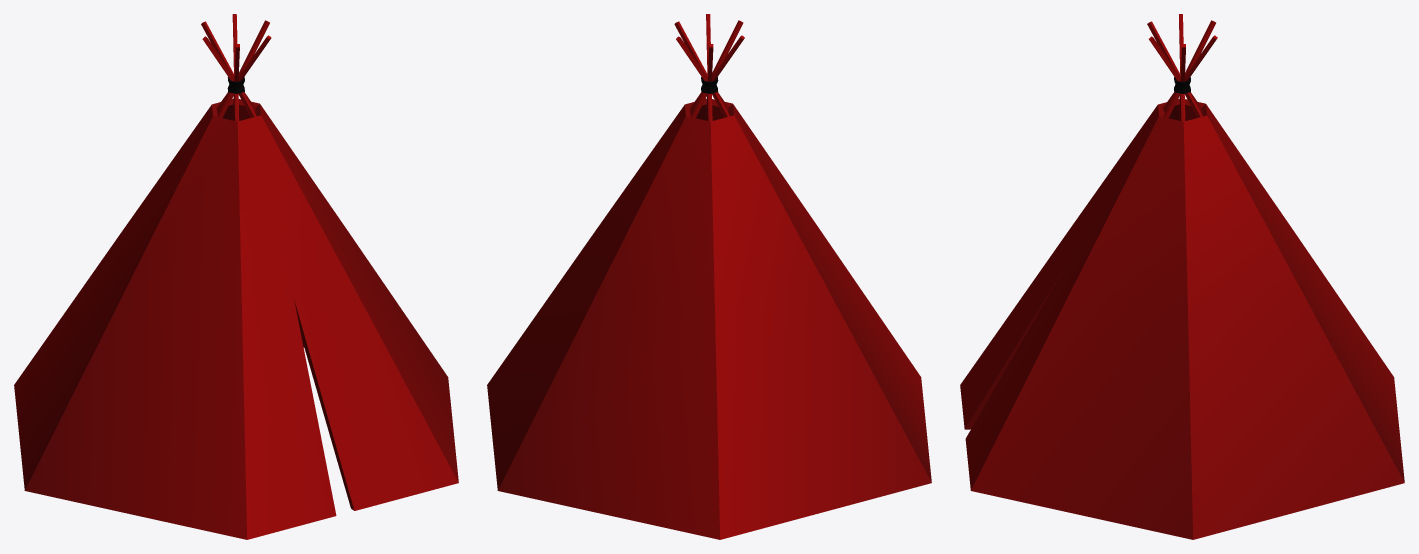
Rendered from buildings-tents-tipi_v1.fbx.
The picture shows the model from 3 angles, left to right: view 1: azimuth 30°, elevation 25°; view 2: azimuth 150°, elevation 25°; view 3: azimuth 270°, elevation 25°; orthographic projection.
Visible parts, largest first — view 1: Tipi.001; view 2: Tipi.001; view 3: Tipi.001.
Part boxes in pixels (box(x1,y1,x2,y2)): Tipi.001: box(14, 14, 458, 539); Tipi.001: box(487, 14, 931, 539); Tipi.001: box(960, 14, 1404, 539).
Bounding box in the file's own units: 5.35 × 4.78 × 4.75.
